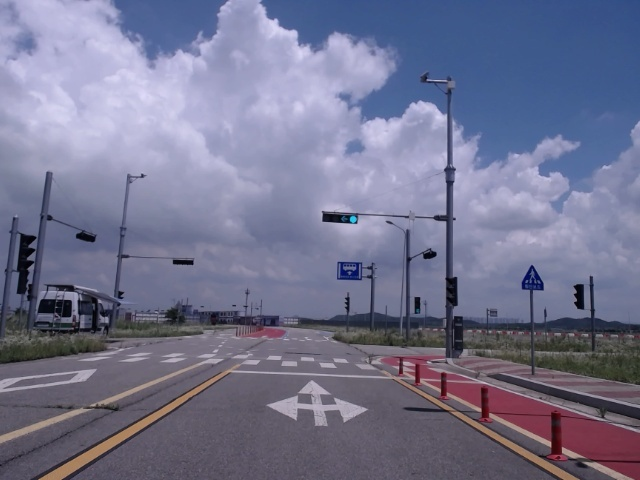all_green_4: (322, 209, 359, 224)
